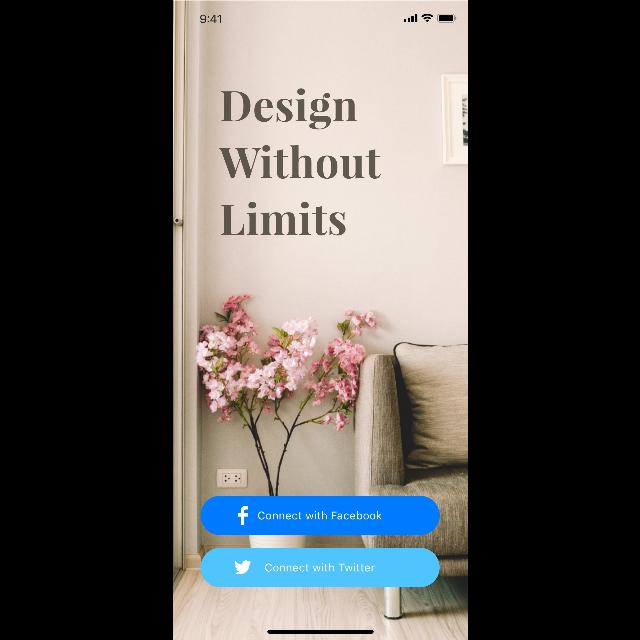backgroundimage: (172, 1, 468, 640)
text: (218, 88, 380, 235)
textbutton: (200, 496, 440, 534), (200, 548, 440, 586)
uppertaskbar: (200, 14, 456, 24)
